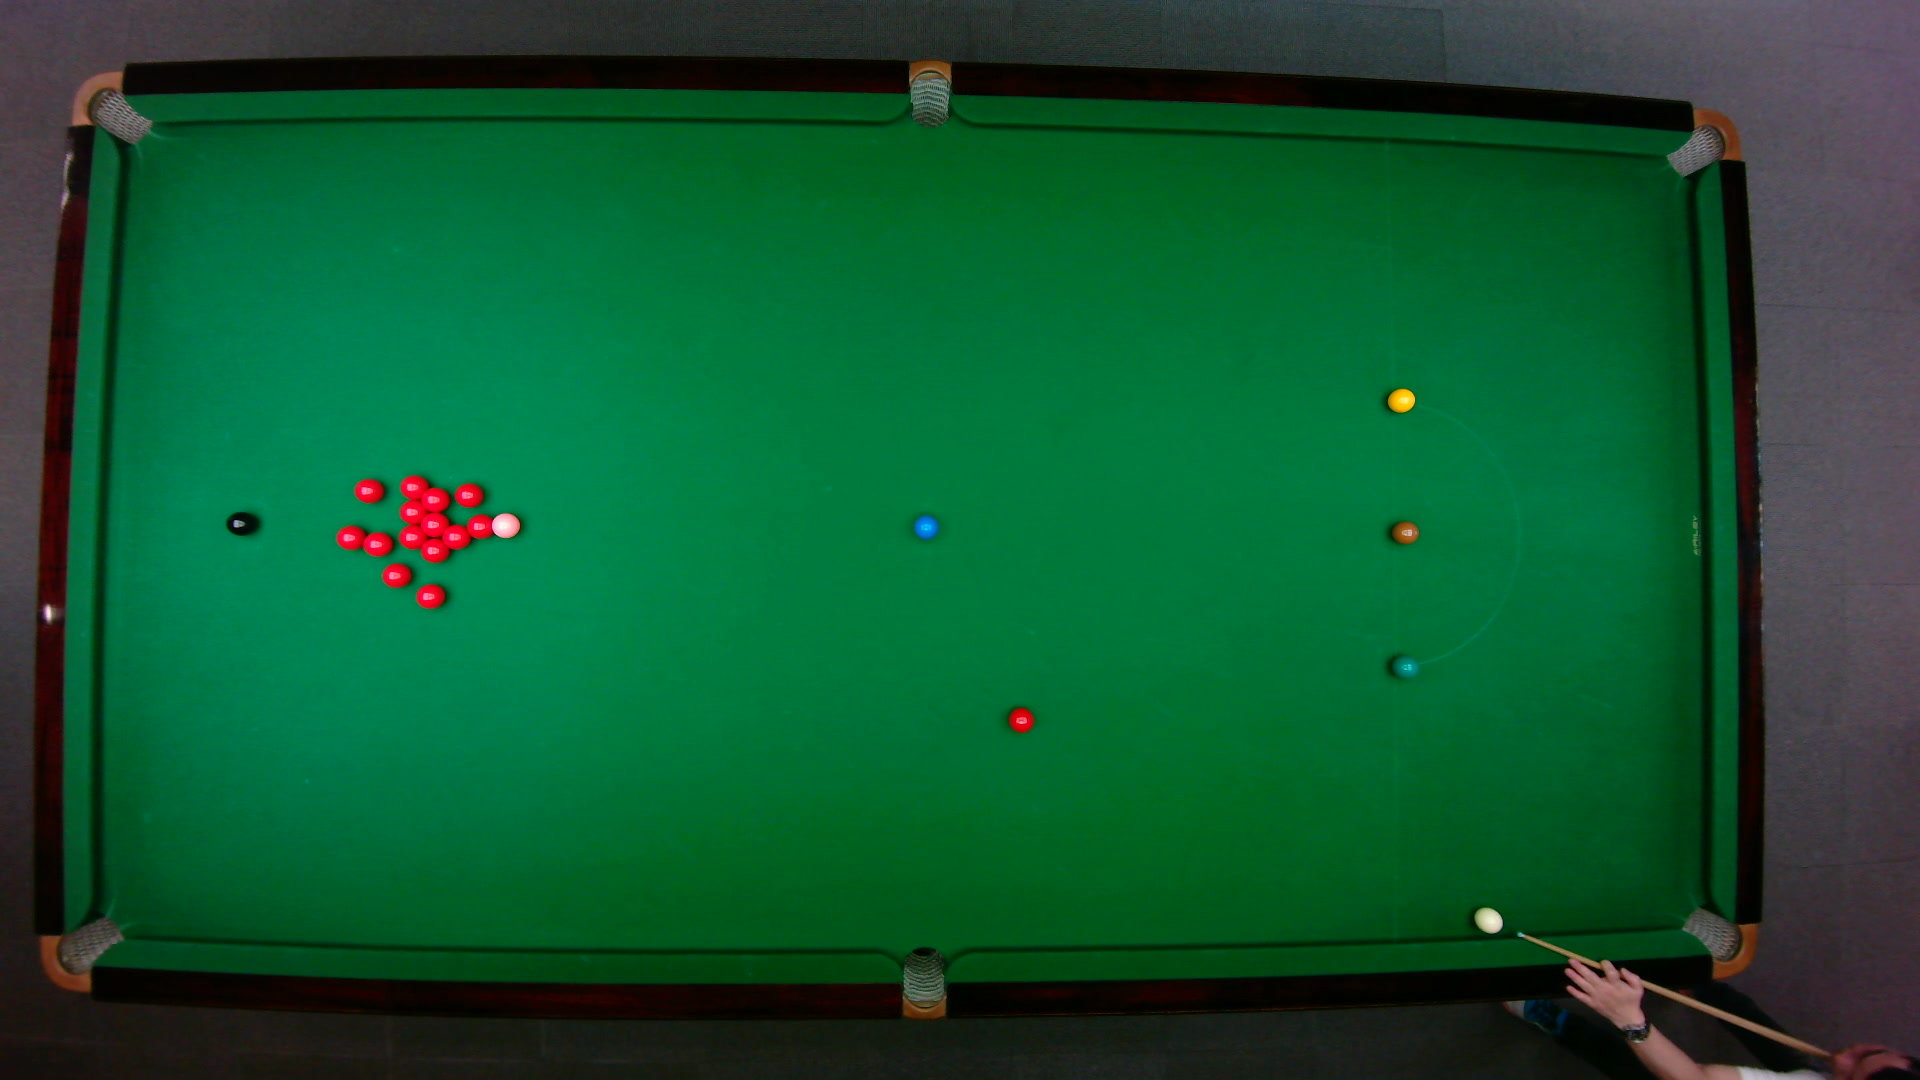bag: (37, 914, 125, 992), (69, 69, 152, 145), (1677, 905, 1758, 978), (1663, 107, 1741, 177), (901, 945, 945, 1021), (909, 57, 949, 128)
black: (224, 510, 256, 535)
blue: (911, 513, 938, 539)
brown: (1390, 520, 1419, 545)
cue: (1516, 928, 1833, 1064), (1631, 969, 1833, 1062)
green: (1389, 651, 1418, 679)
pink: (489, 512, 521, 539)
red: (359, 529, 393, 556), (380, 560, 411, 588), (414, 582, 446, 609), (352, 476, 385, 502), (439, 522, 471, 549), (334, 524, 365, 550), (454, 480, 484, 506), (419, 537, 450, 563), (1006, 705, 1034, 733), (421, 485, 450, 512), (398, 473, 429, 498), (465, 512, 492, 539), (397, 524, 426, 549), (419, 512, 448, 535), (398, 500, 423, 522)
white: (1472, 905, 1505, 935)
yellow: (1385, 386, 1416, 413)
zone: (1389, 401, 1519, 666)
